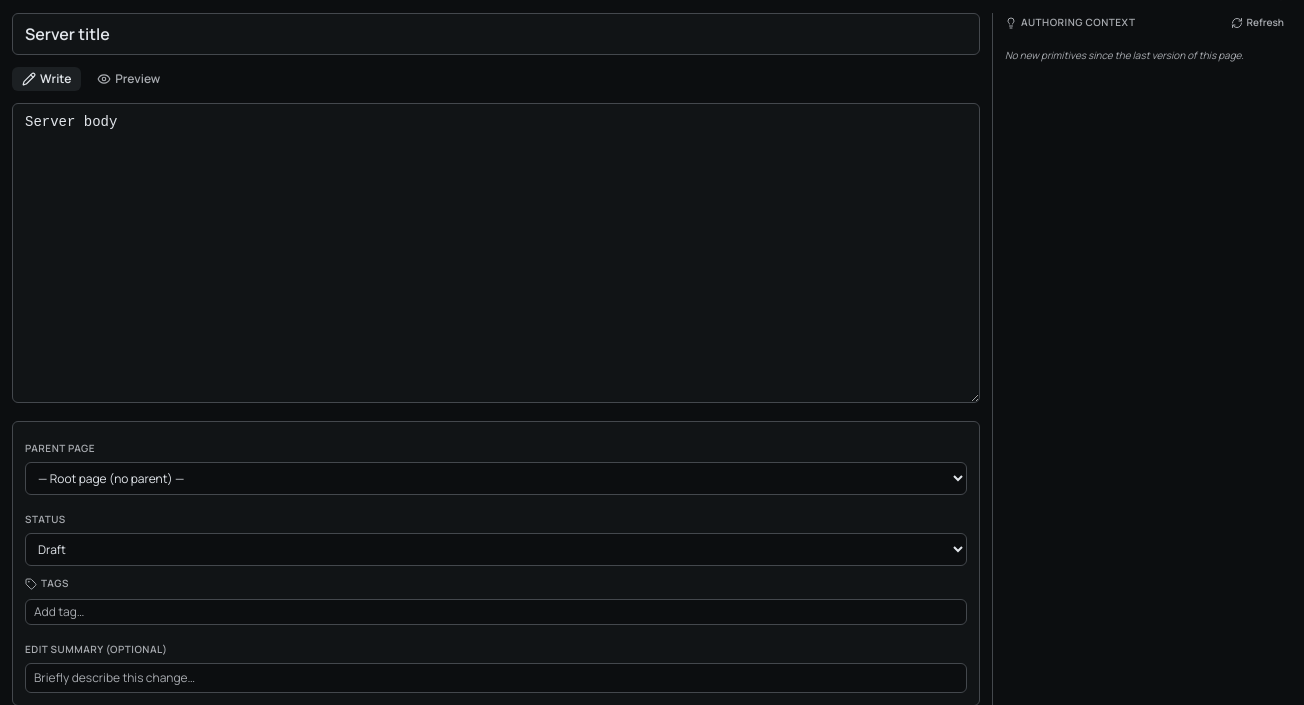
Test: WikiEditor draft lifecycle › saves metadata independently while preserving unsaved title and body
Expected: the text box showing "Server body" is shown, [12,103,980,403]
Replace the text in the field with placeholder "Page title…" with "Unsaved title" at (496, 34), box [12,13,980,55]
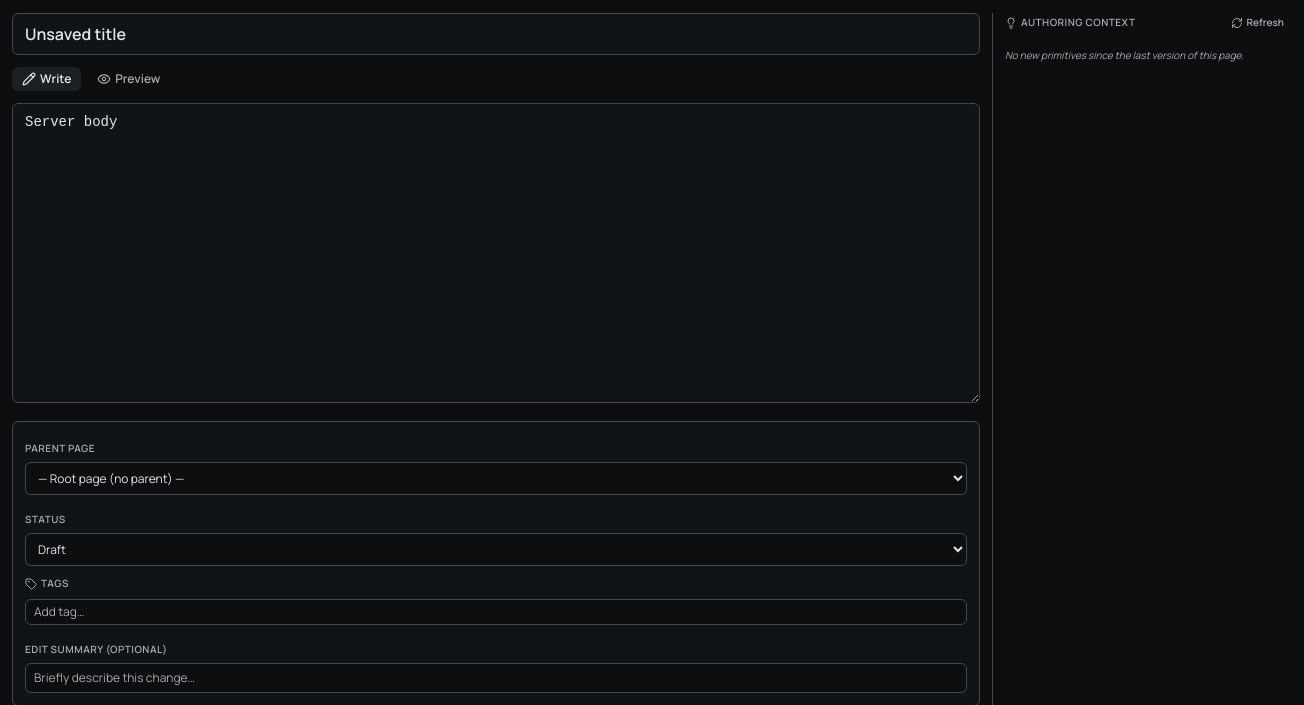
Replace the text in the text box with placeholder "Write page content in markdown…" with "UNSAVED IMPORTANT BODY" at (496, 253), box [12,103,980,403]
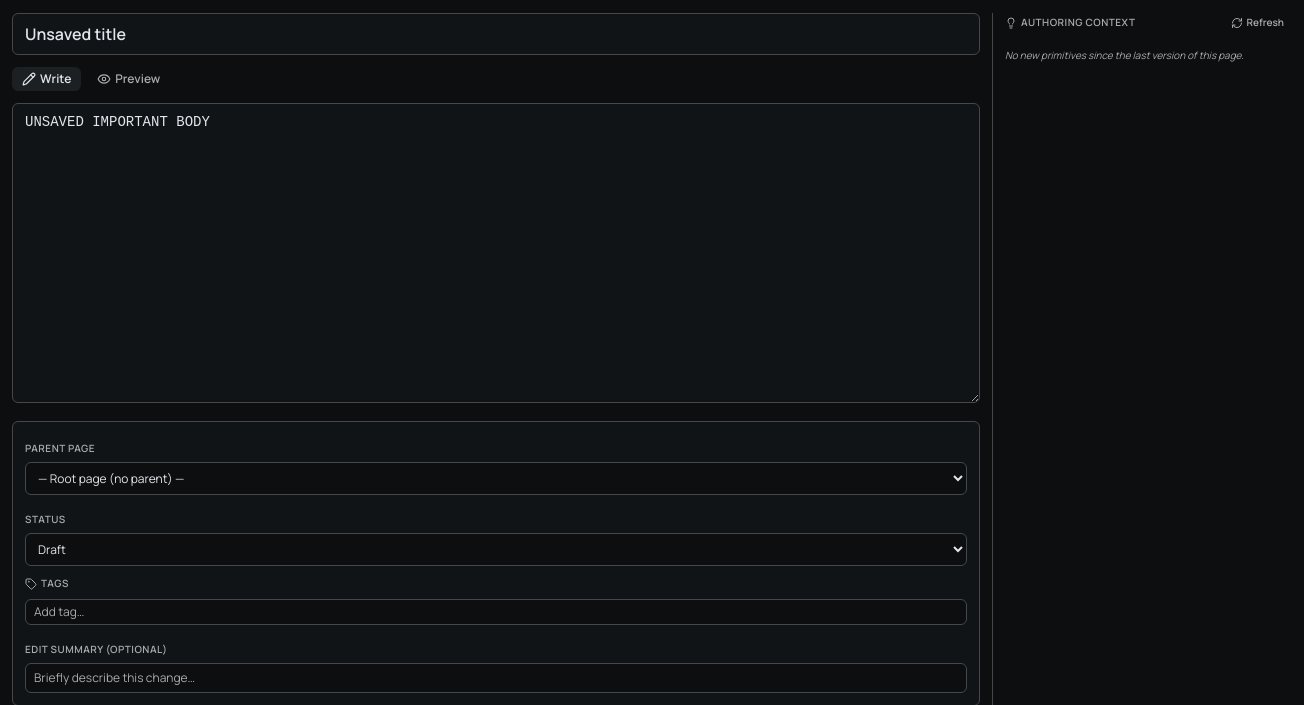
Select "Published" in the dropdown labelled "Status" at (496, 550), box [25,533,967,566]
(page scrolled)
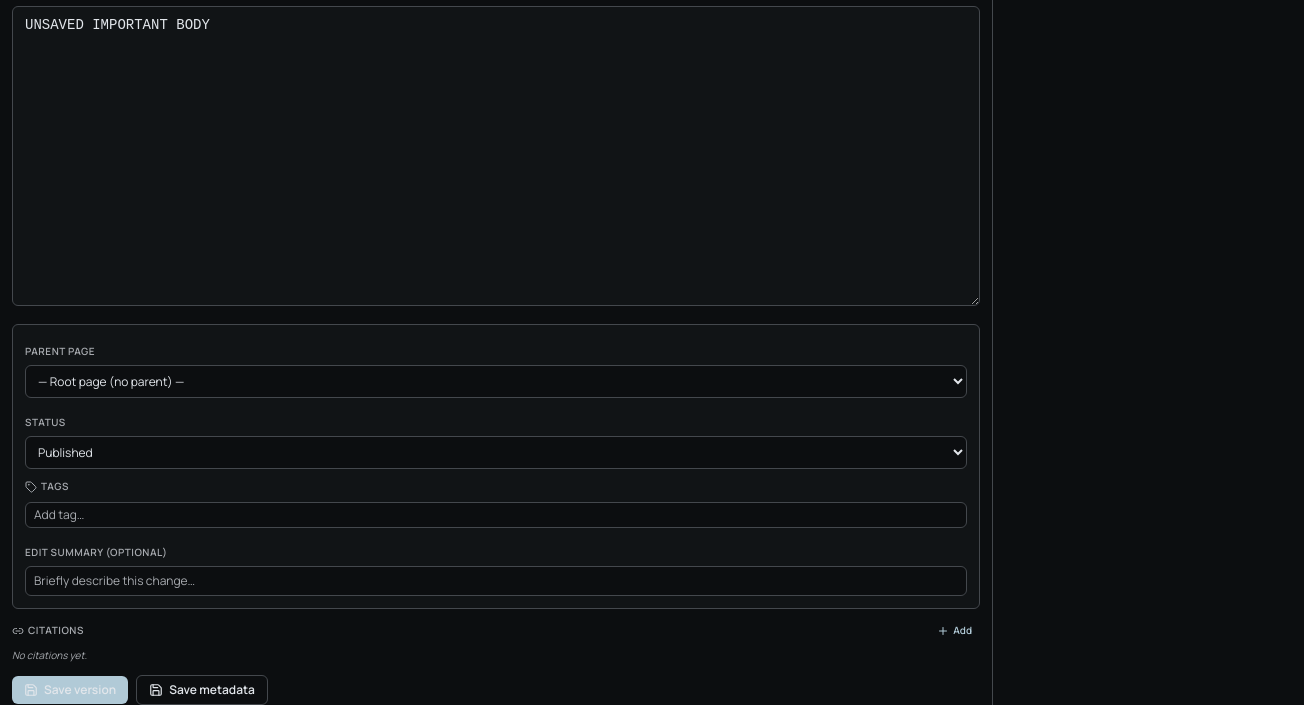
Click the button "Save metadata".
click(202, 690)  # box [136,675,268,704]
(page scrolled)
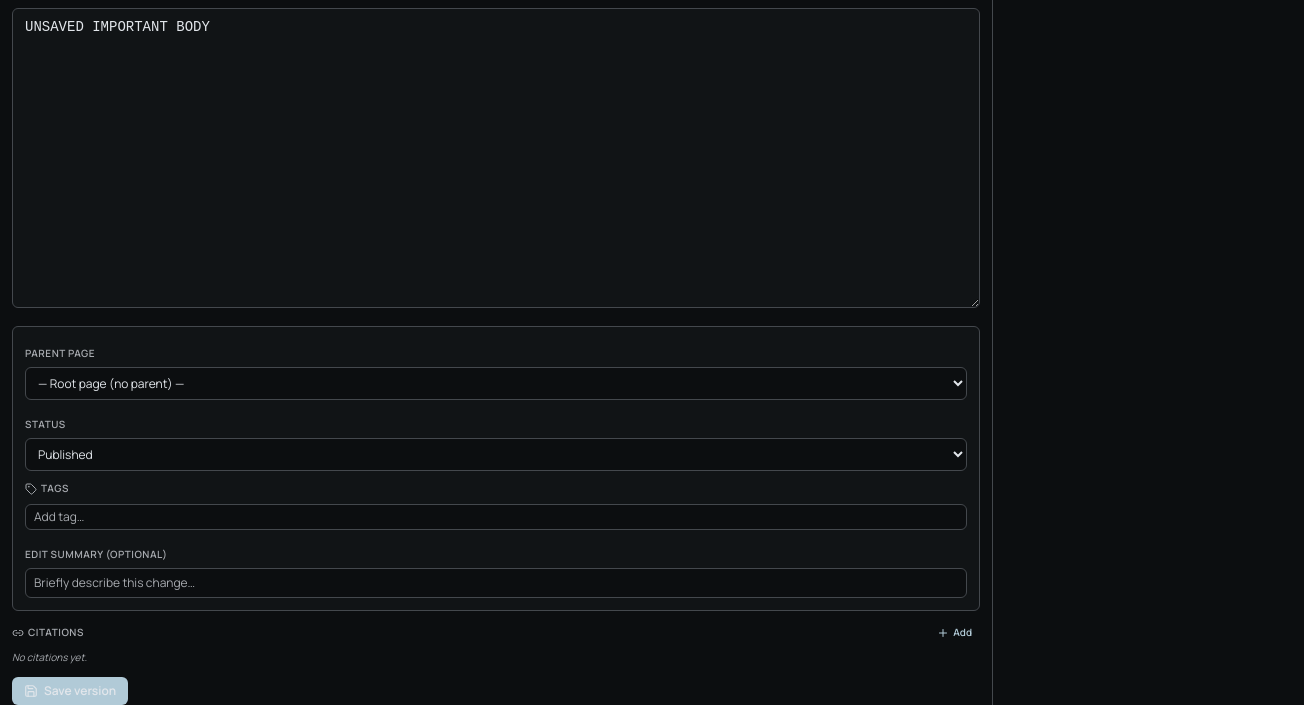
Result: the button "Save version" is enabled at [12,677,128,704]
Result: the button "Save metadata" is gone
